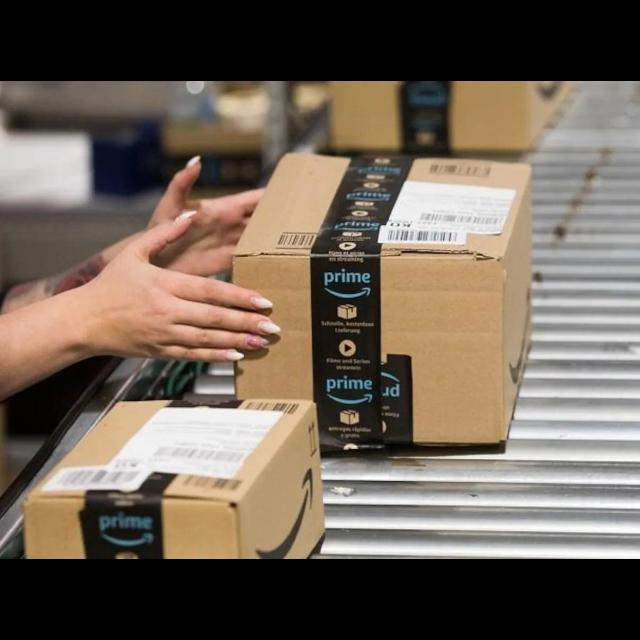box: (232, 150, 536, 448), (22, 398, 328, 560), (327, 81, 577, 151)
